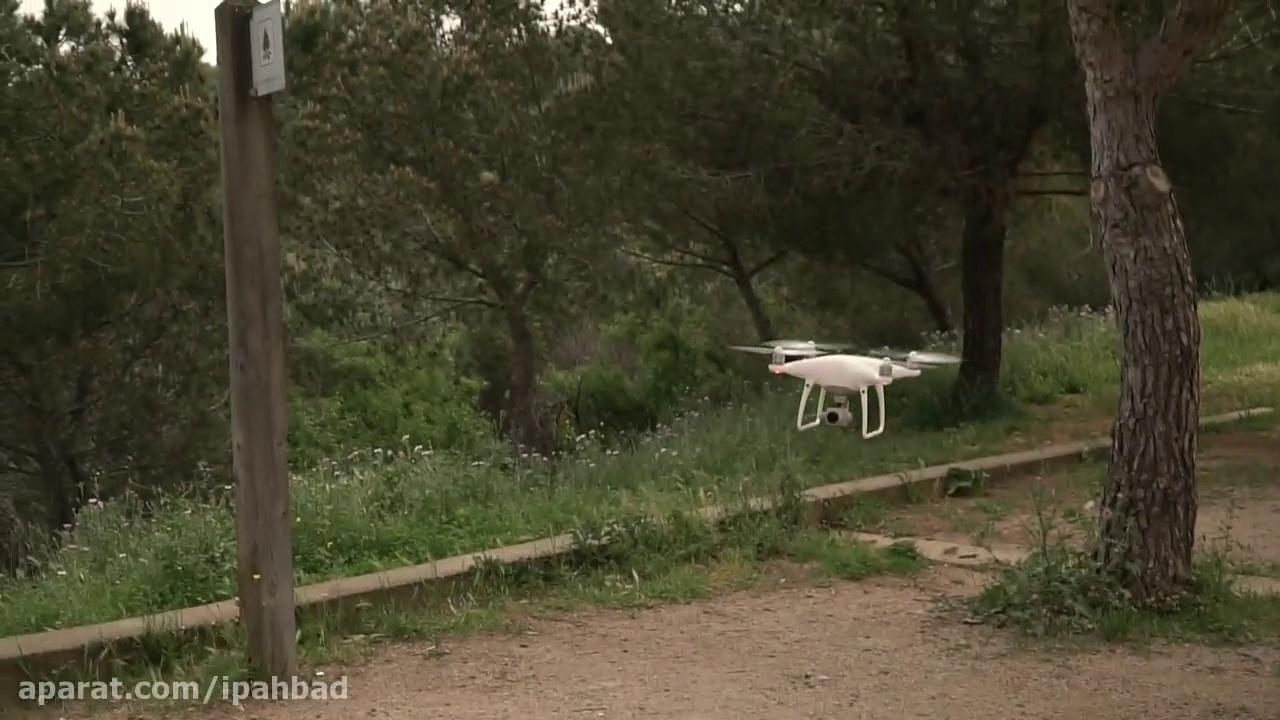drone: (723, 335, 962, 437)
